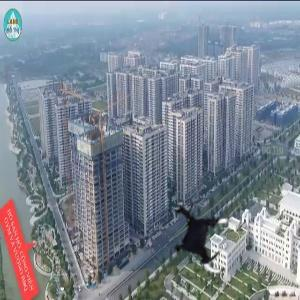drone: (160, 193, 248, 281)
